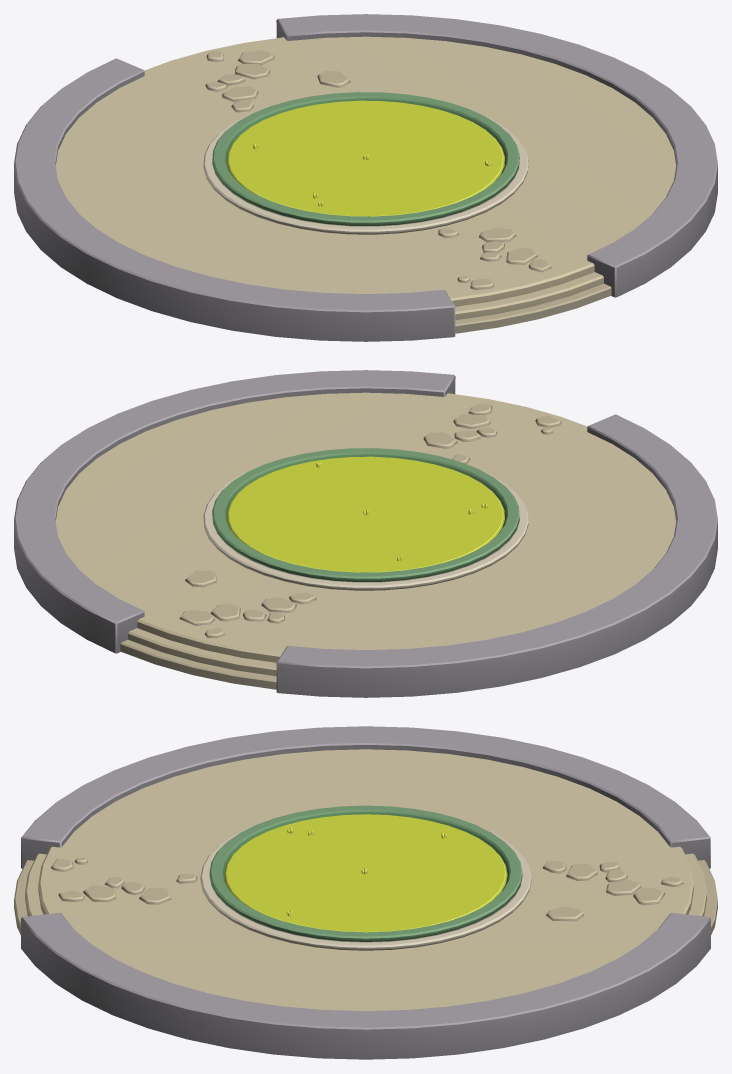
The model's file is Background_Mainfloor.fbx.
3 views of the same model, one above another, from view 1: azimuth 30°, elevation 25°; view 2: azimuth 150°, elevation 25°; view 3: azimuth 270°, elevation 25° (orthographic).
Visible parts, largest first — view 1: Background_Mainfloor; view 2: Background_Mainfloor; view 3: Background_Mainfloor.
Part boxes in pixels (x1,y1,x2,y2): Background_Mainfloor: (14, 14, 717, 341); Background_Mainfloor: (14, 370, 717, 697); Background_Mainfloor: (14, 726, 717, 1059).
Size of the model in its own units: 2385 by 145 by 2345.
